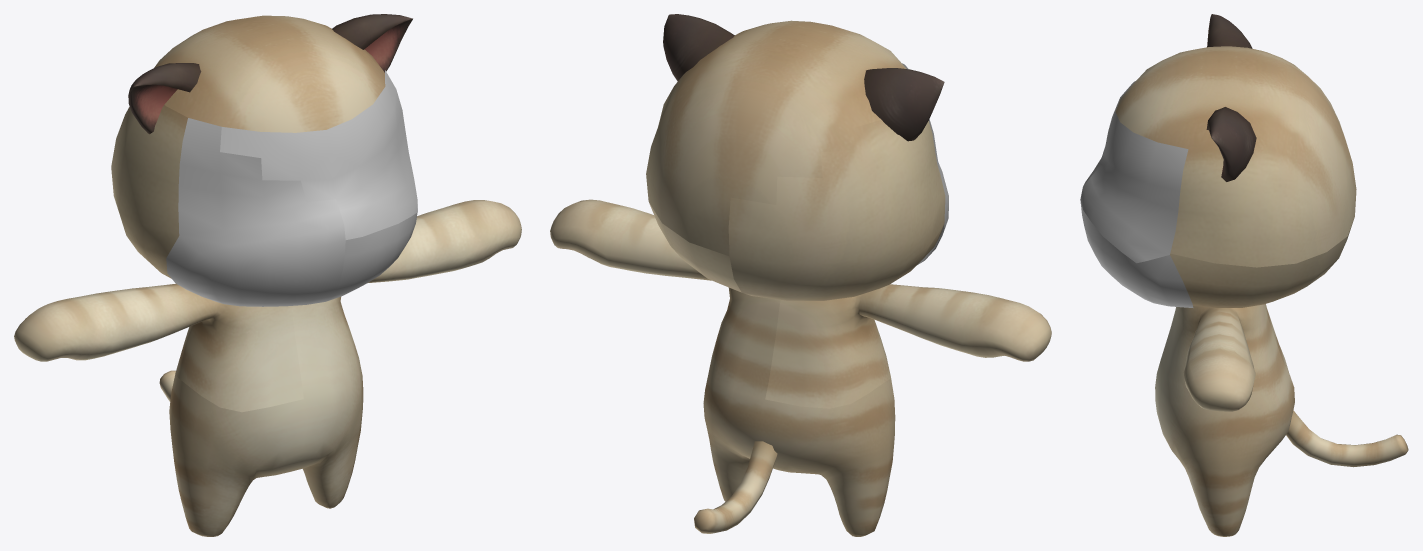
Rendered from Statue_Broken_Test.fbx.
The picture shows the model from 3 angles, left to right: view 1: azimuth 30°, elevation 25°; view 2: azimuth 150°, elevation 25°; view 3: azimuth 270°, elevation 25°; orthographic projection. The views are drawn at different scales.
Visible parts, largest first — view 1: Chibi_Cat.002, Chibi_Cat.001, Chibi_Cat.003; view 2: Chibi_Cat.002, Chibi_Cat.001, Chibi_Cat.003; view 3: Chibi_Cat.001, Chibi_Cat.003.
Boxes of the visible parts, x1,y1,x2,y2 form: Chibi_Cat.002: (14, 105, 345, 412); Chibi_Cat.001: (128, 14, 417, 239); Chibi_Cat.003: (159, 200, 521, 536); Chibi_Cat.002: (728, 119, 1051, 408); Chibi_Cat.001: (646, 14, 944, 256); Chibi_Cat.003: (550, 199, 895, 536); Chibi_Cat.001: (1080, 14, 1356, 267); Chibi_Cat.003: (1080, 200, 1408, 536).
Size of the model in its own units: 821 by 768 by 513.
